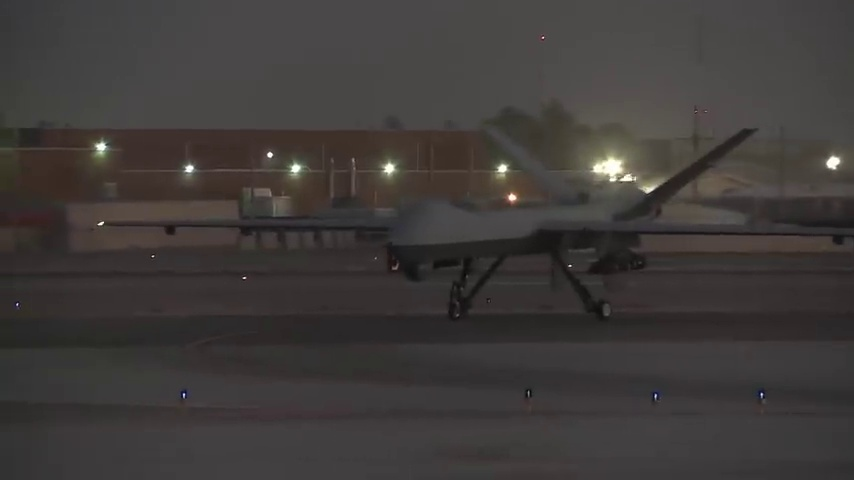military drone: (96, 125, 854, 320)
